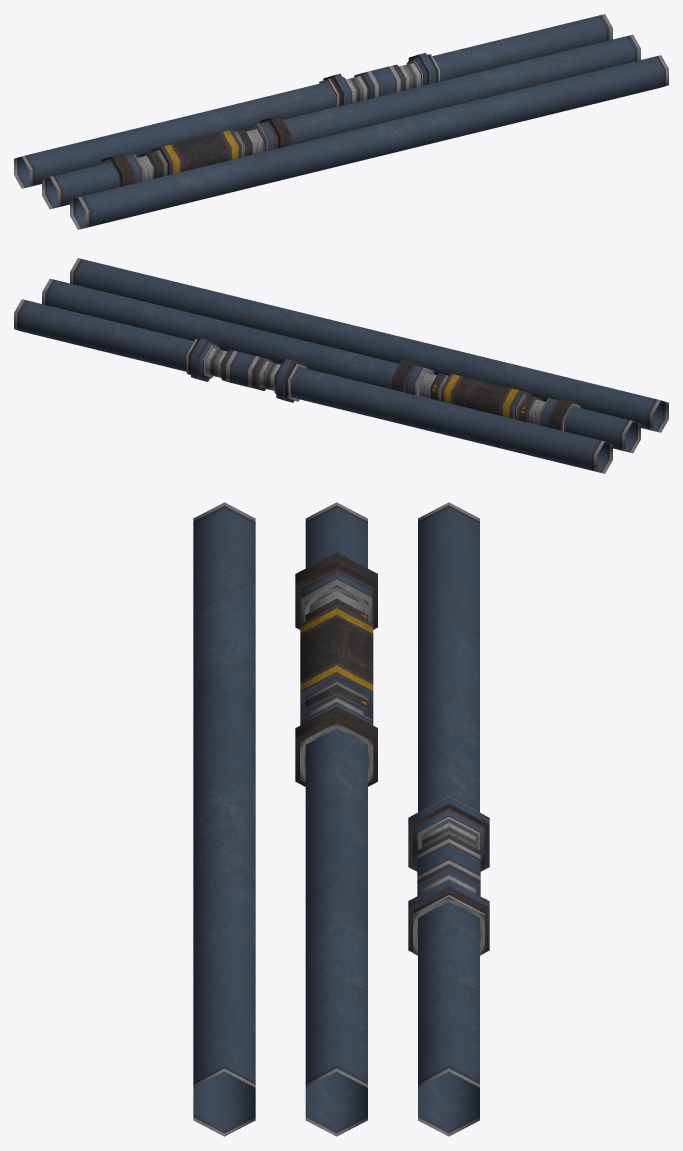
Rendered from Pipe3_B_L1.fbx.
3 renders of one model, top to bottom at view 1: azimuth 30°, elevation 25°; view 2: azimuth 150°, elevation 25°; view 3: azimuth 270°, elevation 25°, orthographic. The views are drawn at different scales.
Parts seen in each view (by area): view 1: PIpe3_B_L1; view 2: PIpe3_B_L1; view 3: PIpe3_B_L1.
Boxes of the visible parts, box(x1,y1,x2,y2) form: PIpe3_B_L1: box(14, 14, 668, 229); PIpe3_B_L1: box(14, 258, 668, 473); PIpe3_B_L1: box(193, 502, 489, 1136).
Bounding box in the file's own units: 200 × 14.17 × 43.97.
